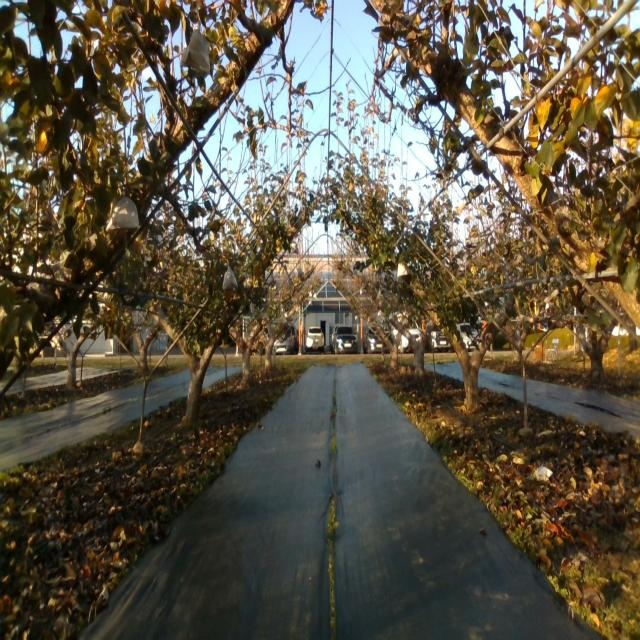pearbags: (180, 30, 210, 76), (107, 195, 140, 230), (223, 266, 238, 290)
